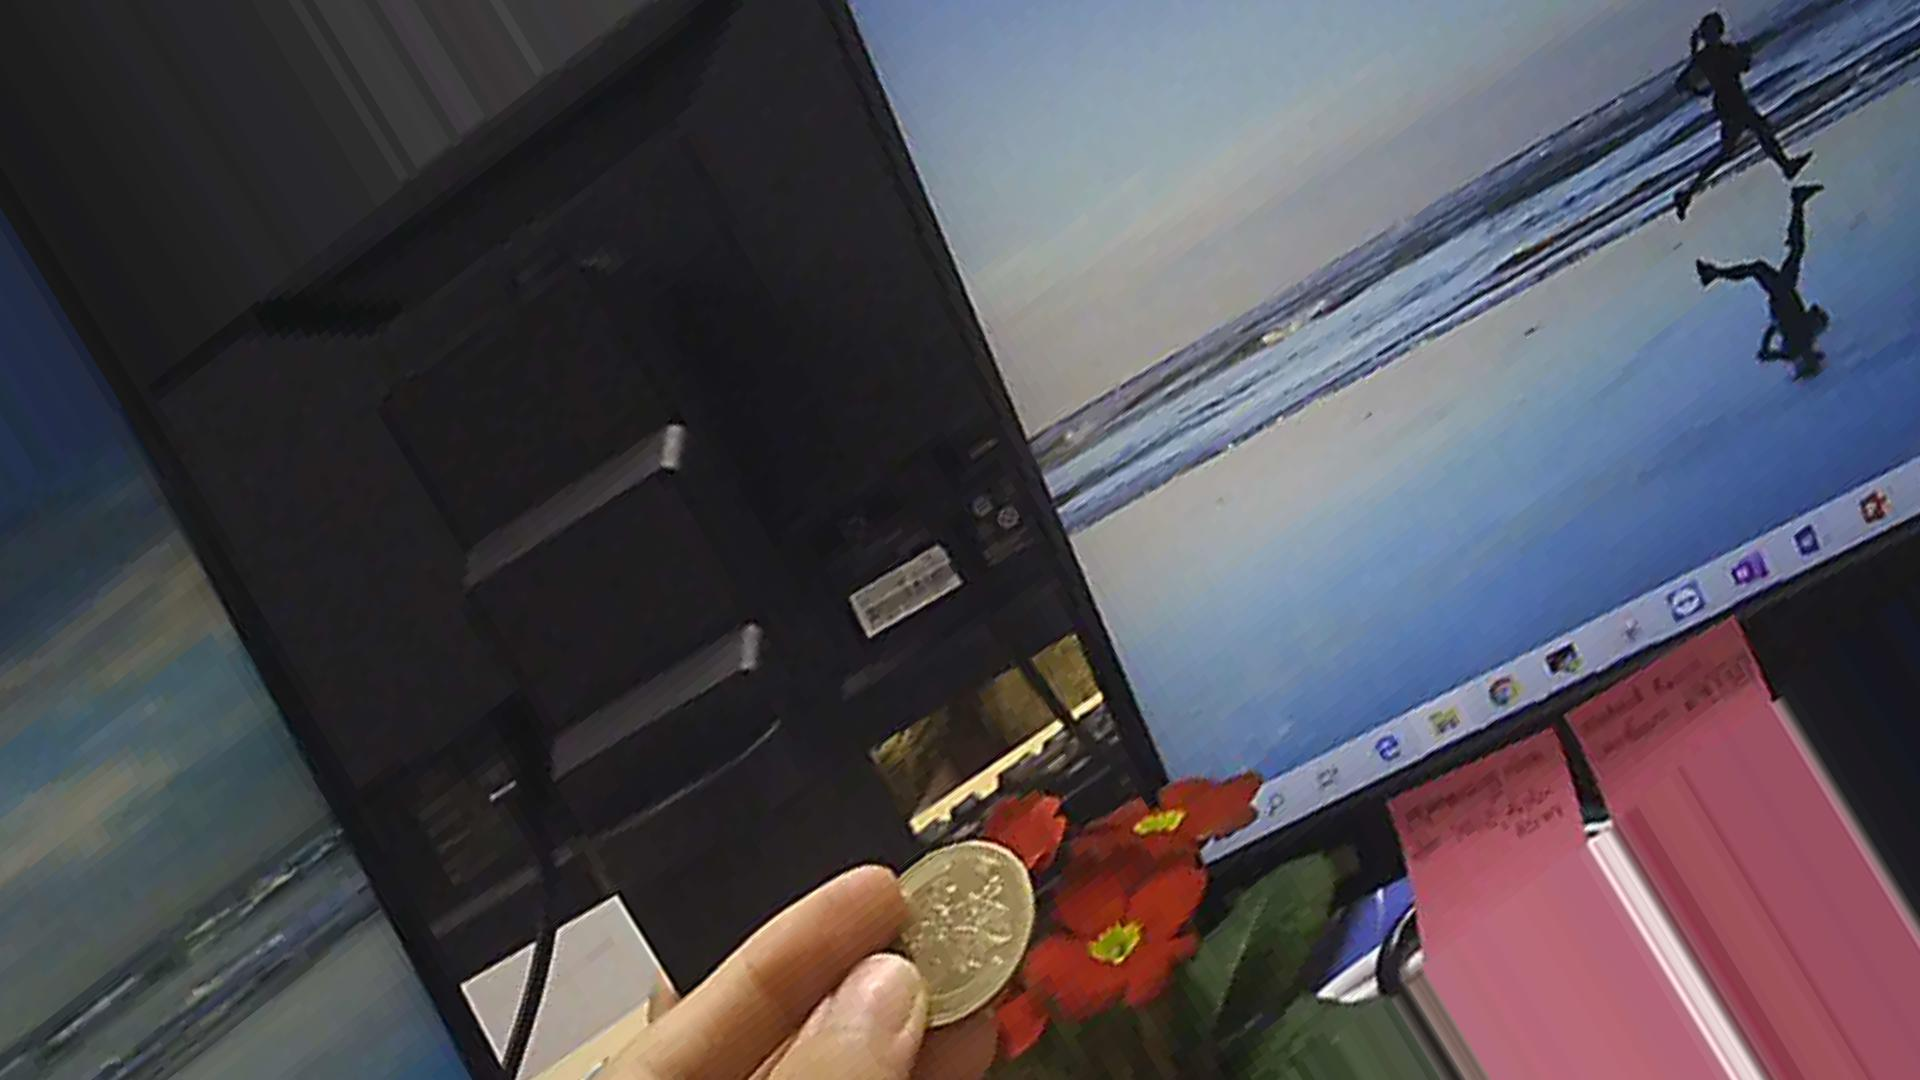500 Yen: (866, 844, 1034, 1030)
